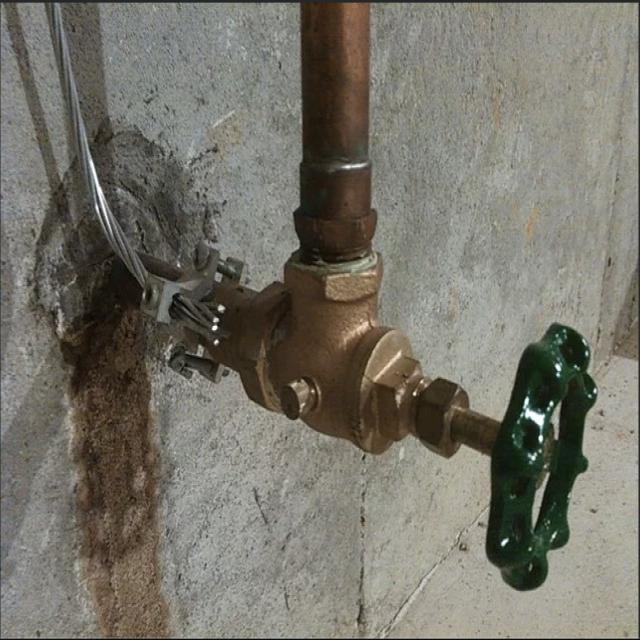Wheel Handle Valve Threaded: (239, 250, 596, 596)
